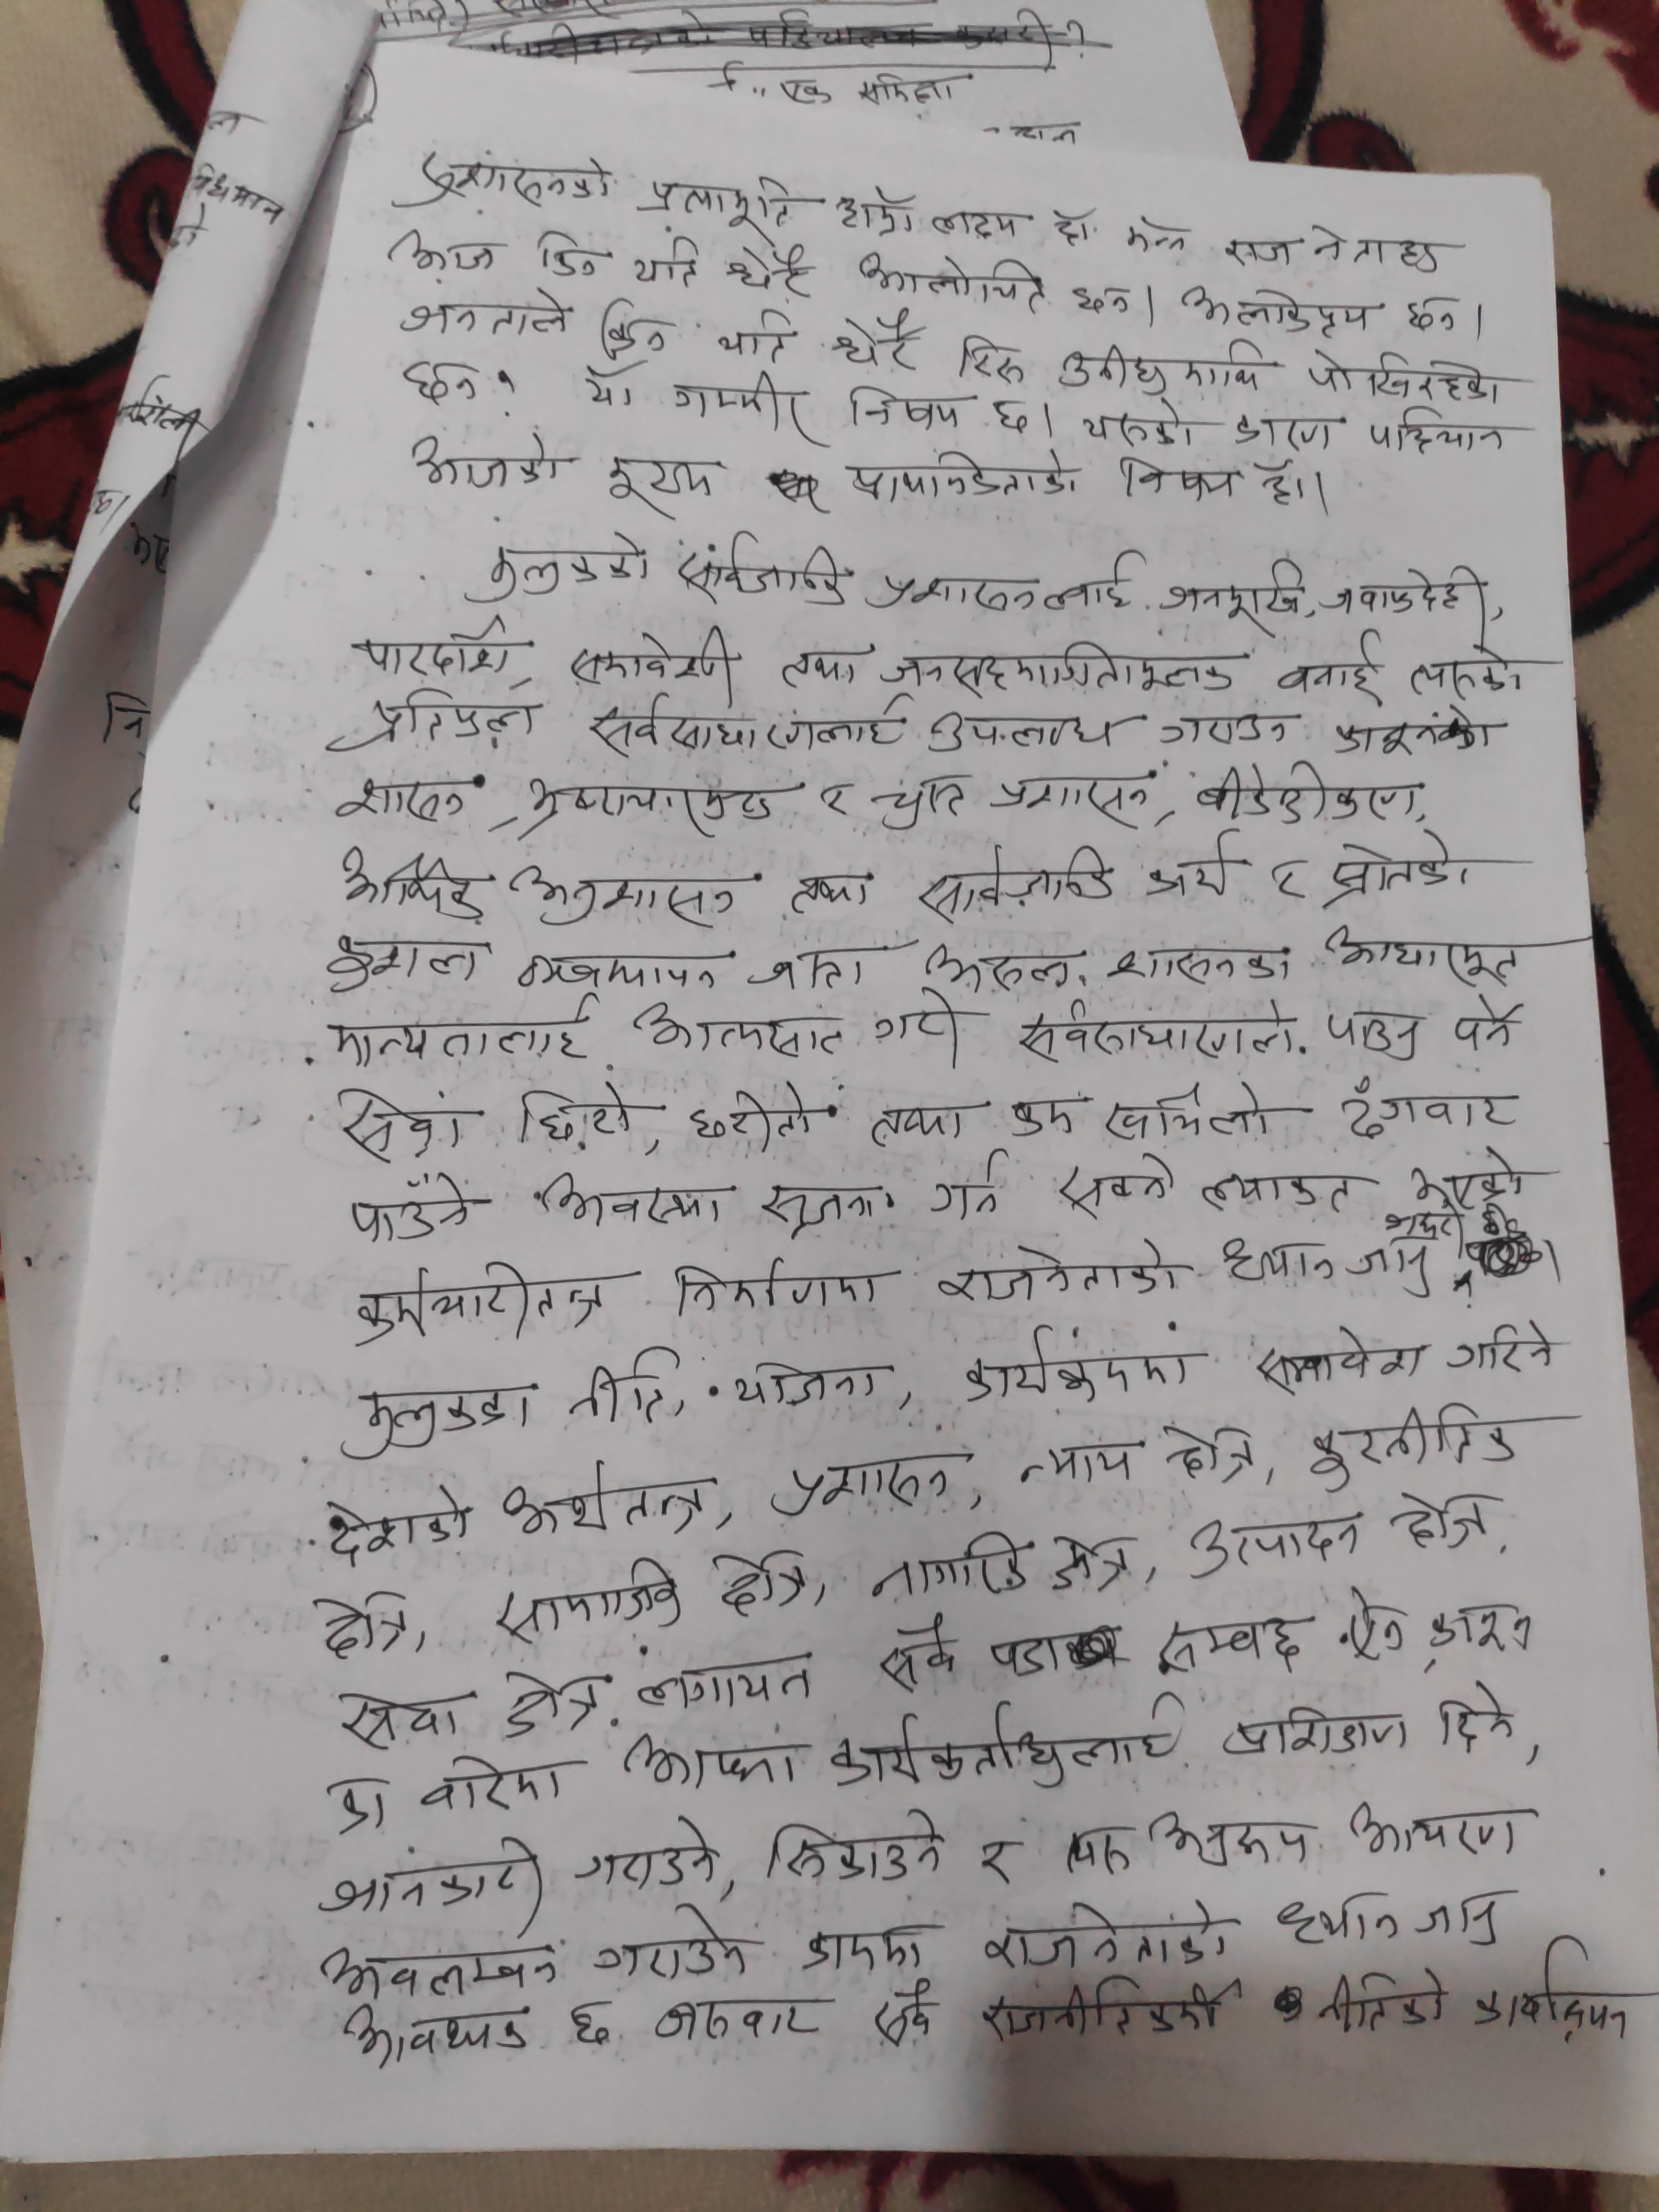text: (828, 1702, 1185, 1789), (350, 1259, 605, 1353), (1016, 995, 1304, 1068), (884, 641, 1248, 698), (512, 772, 805, 843), (960, 1320, 1194, 1409), (315, 1843, 545, 1930), (1307, 1402, 1535, 1489), (870, 549, 1141, 620), (1469, 1935, 1636, 2047), (322, 1000, 596, 1068), (500, 1453, 721, 1536), (979, 1902, 1246, 1970), (308, 1939, 566, 2006), (507, 862, 749, 930), (911, 843, 1124, 920), (493, 1559, 690, 1641), (976, 1980, 1241, 2040), (1194, 765, 1425, 831), (934, 1238, 1183, 1299), (324, 688, 538, 758), (343, 1379, 533, 1456), (589, 1900, 758, 1986), (1054, 336, 1284, 399), (666, 1258, 894, 1320), (767, 1446, 962, 1519), (763, 1815, 955, 1888), (410, 145, 615, 211), (1323, 918, 1527, 984), (471, 524, 653, 597), (1154, 554, 1307, 641), (845, 451, 1084, 507), (1345, 1791, 1535, 1860), (579, 1808, 728, 1895), (629, 996, 849, 1055), (1337, 1071, 1532, 1137), (629, 1646, 819, 1714), (1183, 1507, 1368, 1576), (319, 1487, 477, 1568), (1182, 277, 1380, 340), (342, 2001, 528, 2067), (1300, 343, 1506, 402), (335, 845, 486, 925), (1249, 1324, 1427, 1392), (619, 1731, 805, 1796), (1148, 1801, 1319, 1871), (1331, 829, 1480, 909), (866, 1529, 1033, 1599), (856, 249, 1054, 307), (542, 1169, 739, 1226), (1101, 1082, 1284, 1143), (331, 1087, 469, 1167), (662, 374, 826, 441), (586, 697, 756, 759), (509, 944, 735, 991), (401, 428, 570, 491), (568, 629, 739, 690), (925, 711, 1138, 759), (1319, 564, 1488, 625), (1150, 1616, 1302, 1684), (634, 172, 796, 235), (988, 772, 1159, 831), (361, 617, 518, 681), (687, 549, 850, 608), (324, 930, 486, 989), (647, 1994, 824, 2048), (1316, 1966, 1450, 2038), (331, 1681, 471, 1749), (1270, 1885, 1406, 1952), (748, 1186, 908, 1244), (767, 691, 913, 754), (1053, 1153, 1187, 1221), (1103, 942, 1293, 989), (1222, 1707, 1410, 1754), (394, 291, 575, 340), (572, 1352, 687, 1428), (1328, 707, 1502, 758), (343, 1177, 479, 1242), (418, 1754, 570, 1811), (1359, 406, 1513, 462), (502, 1667, 615, 1742), (728, 1353, 885, 1407), (688, 1085, 826, 1146), (310, 1583, 415, 1663), (1274, 631, 1384, 705), (922, 941, 1084, 991), (1403, 1141, 1530, 1204), (866, 770, 978, 840), (519, 1078, 631, 1148), (1195, 1167, 1371, 1211), (1389, 1484, 1499, 1554), (800, 1919, 925, 1980), (598, 453, 721, 514), (1406, 644, 1537, 702), (1216, 1231, 1342, 1289), (714, 1541, 810, 1616), (1436, 1677, 1523, 1759), (1422, 1599, 1542, 1658), (329, 770, 465, 822), (746, 944, 903, 989), (1413, 1885, 1518, 1952), (878, 1613, 964, 1695), (1345, 1231, 1439, 1305), (1012, 1439, 1140, 1493), (1441, 1315, 1560, 1372), (871, 986, 964, 1059), (925, 1150, 1018, 1223), (1044, 1527, 1145, 1594), (1304, 228, 1453, 272), (1079, 397, 1197, 451), (1335, 1583, 1410, 1667), (1161, 1420, 1256, 1484), (1143, 838, 1236, 904), (1117, 453, 1236, 503), (828, 312, 925, 373), (1154, 711, 1302, 751), (1220, 404, 1345, 451), (1323, 1010, 1425, 1066), (591, 294, 680, 359), (850, 381, 964, 432), (864, 1099, 967, 1153), (720, 244, 821, 296), (1054, 1818, 1136, 1883), (1452, 996, 1532, 1059), (535, 221, 608, 287), (390, 232, 500, 275), (788, 869, 875, 923), (981, 1627, 1065, 1683), (775, 641, 866, 691), (328, 1771, 397, 1836), (866, 1982, 936, 2047), (831, 188, 917, 240), (403, 355, 484, 408), (720, 307, 793, 364), (931, 200, 1026, 244), (1004, 1090, 1084, 1141), (953, 333, 1028, 387), (559, 1994, 619, 2057), (636, 235, 704, 287), (577, 355, 643, 406), (971, 1831, 1019, 1897), (1124, 212, 1192, 260), (1223, 232, 1302, 272), (1044, 202, 1101, 254), (1258, 456, 1309, 512), (1065, 280, 1134, 320), (1265, 853, 1310, 911), (1403, 296, 1464, 338), (981, 397, 1040, 435), (816, 780, 859, 819)
